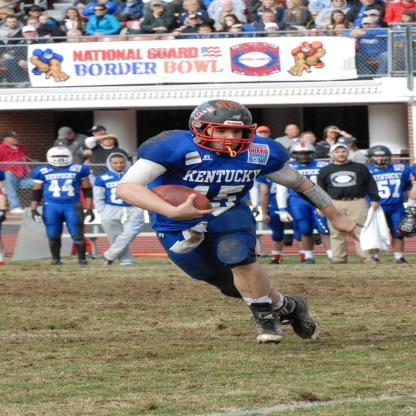Helmet: (183, 104, 262, 153), (288, 140, 320, 166), (46, 147, 75, 167), (370, 146, 392, 170)
